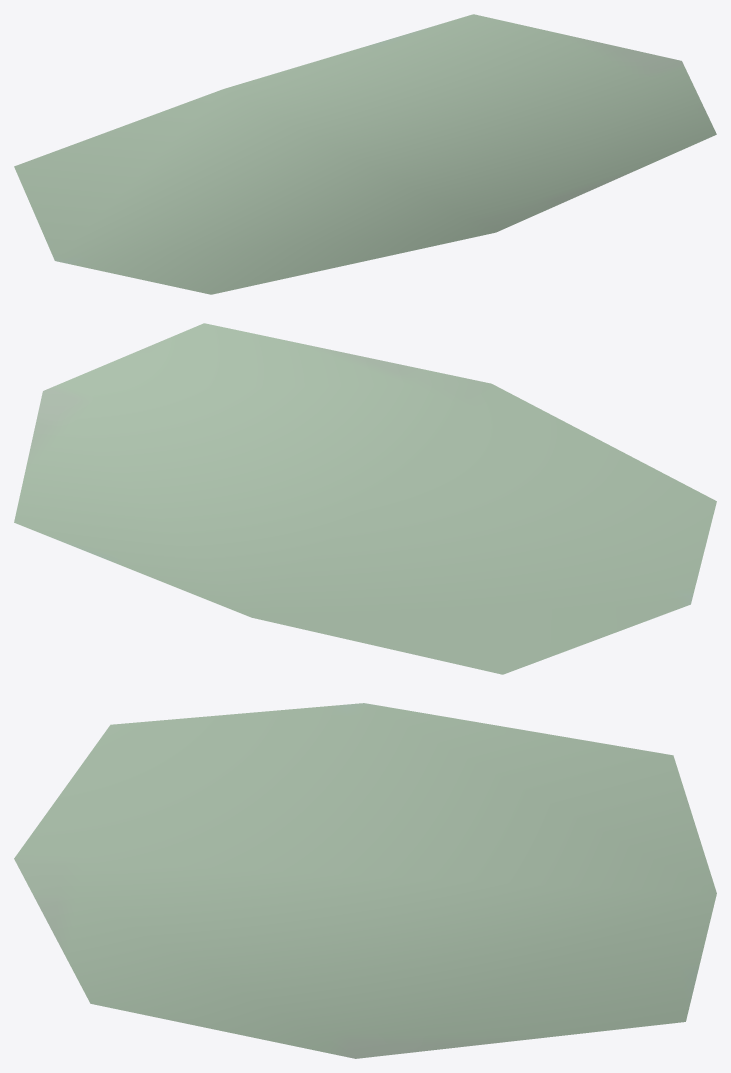
Rendered from TROLLHOLE02_HOLECAP42.fbx.
The picture shows the model from 3 angles, top to bottom: view 1: azimuth 30°, elevation 25°; view 2: azimuth 150°, elevation 25°; view 3: azimuth 270°, elevation 25°; orthographic projection. The views are drawn at different scales.
Visible parts, largest first — view 1: TROLLHOLE02_HOLECAP42; view 2: TROLLHOLE02_HOLECAP42; view 3: TROLLHOLE02_HOLECAP42.
Part boxes in pixels (<box>): TROLLHOLE02_HOLECAP42: <box>14,14,716,294</box>; TROLLHOLE02_HOLECAP42: <box>14,323,716,674</box>; TROLLHOLE02_HOLECAP42: <box>14,703,716,1058</box>.
Bounding box in the file's own units: 29804 × 2910 × 20788.
1 material, 1 textured.
